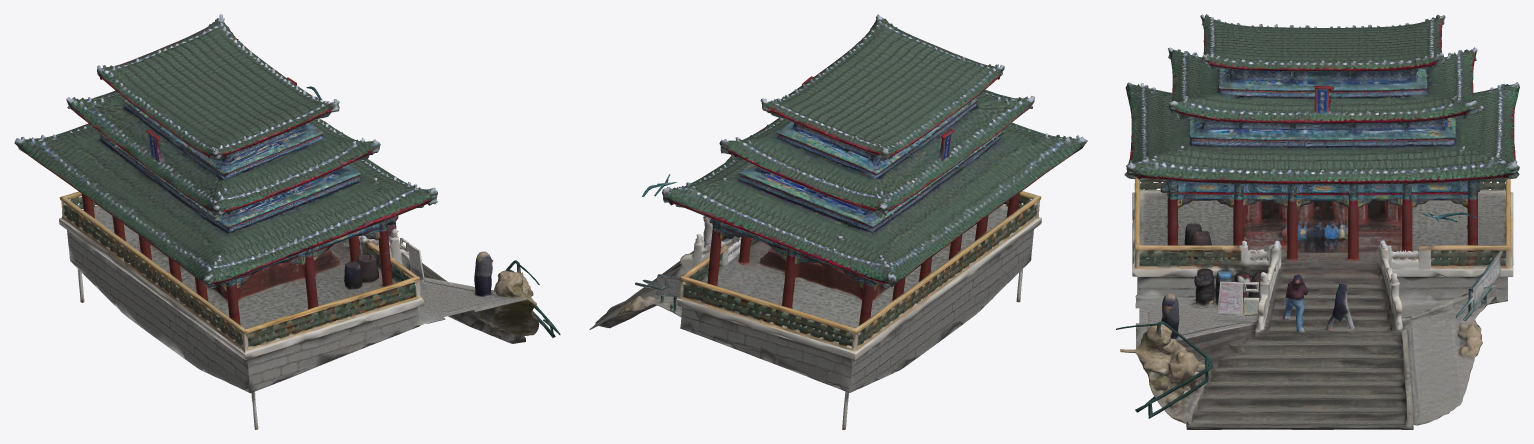
File: detail.glb
The picture shows the model from 3 angles, left to right: view 1: azimuth 30°, elevation 25°; view 2: azimuth 150°, elevation 25°; view 3: azimuth 270°, elevation 25°; orthographic projection. The views are drawn at different scales.
Visible parts, largest first — view 1: jingshan/tripo_node_e66255a2-1b88-4f2d-9384-10e72090710b; view 2: jingshan/tripo_node_e66255a2-1b88-4f2d-9384-10e72090710b; view 3: jingshan/tripo_node_e66255a2-1b88-4f2d-9384-10e72090710b.
Boxes of the visible parts, <box> form: jingshan/tripo_node_e66255a2-1b88-4f2d-9384-10e72090710b: <box>14,14,560,429</box>; jingshan/tripo_node_e66255a2-1b88-4f2d-9384-10e72090710b: <box>589,14,1087,429</box>; jingshan/tripo_node_e66255a2-1b88-4f2d-9384-10e72090710b: <box>1116,14,1519,429</box>.
Bounding box in the file's own units: 0.32 × 0.2386 × 0.3019.
Materials: 1 (1 with a texture image).
